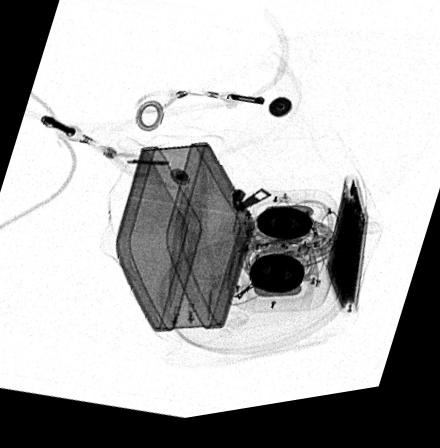Powerbank: (321, 187, 371, 326)
